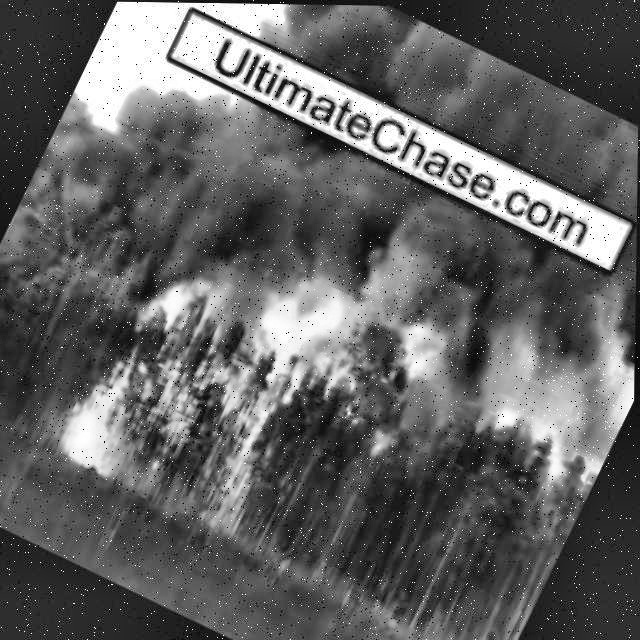Fire: (54, 206, 356, 539), (376, 308, 457, 411)
Smoke: (19, 28, 640, 475), (245, 3, 640, 253)
